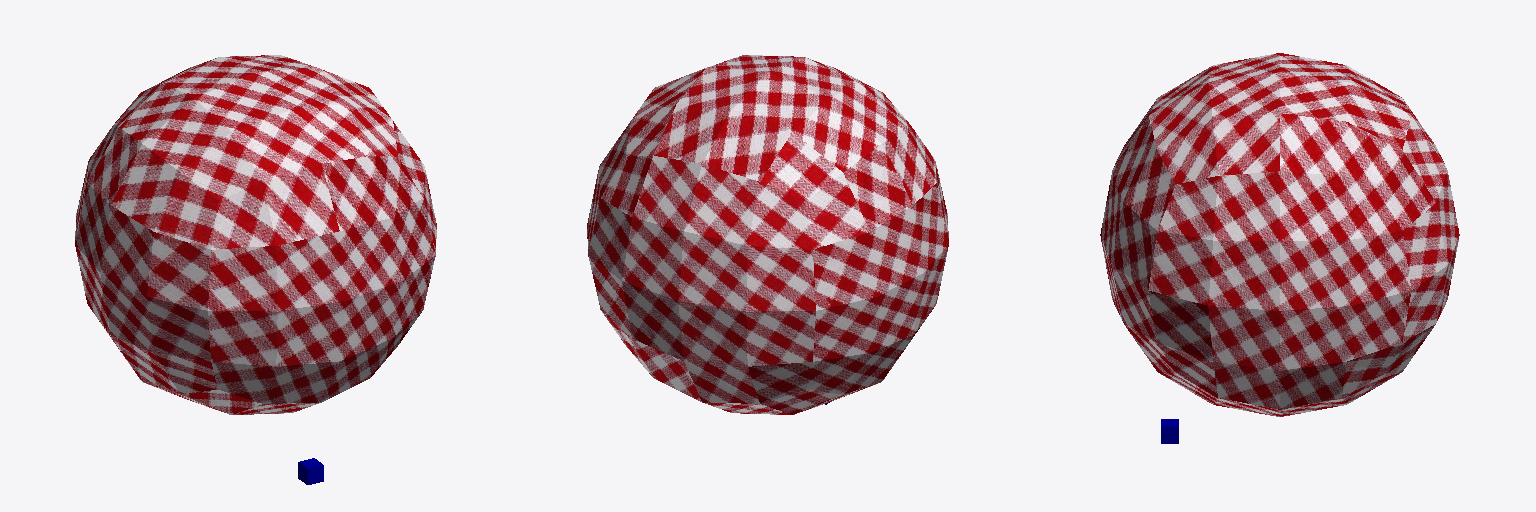
3 views of the same model, side by side, from view 1: azimuth 30°, elevation 25°; view 2: azimuth 150°, elevation 25°; view 3: azimuth 270°, elevation 25° (orthographic).
Visible parts, largest first — view 1: Cube, Cube.001; view 2: Cube; view 3: Cube.
Boxes of the visible parts, box(x1,y1,x2,y2) form: Cube: box(75, 55, 436, 414); Cube.001: box(298, 458, 323, 484); Cube: box(587, 55, 948, 414); Cube: box(1100, 53, 1459, 416).
Size of the model in its own units: 1.76 by 1.98 by 1.76.
Materials: 2 (1 with a texture image).